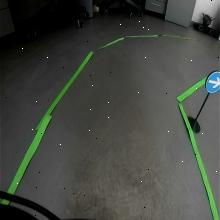right: (205, 71, 220, 92)
